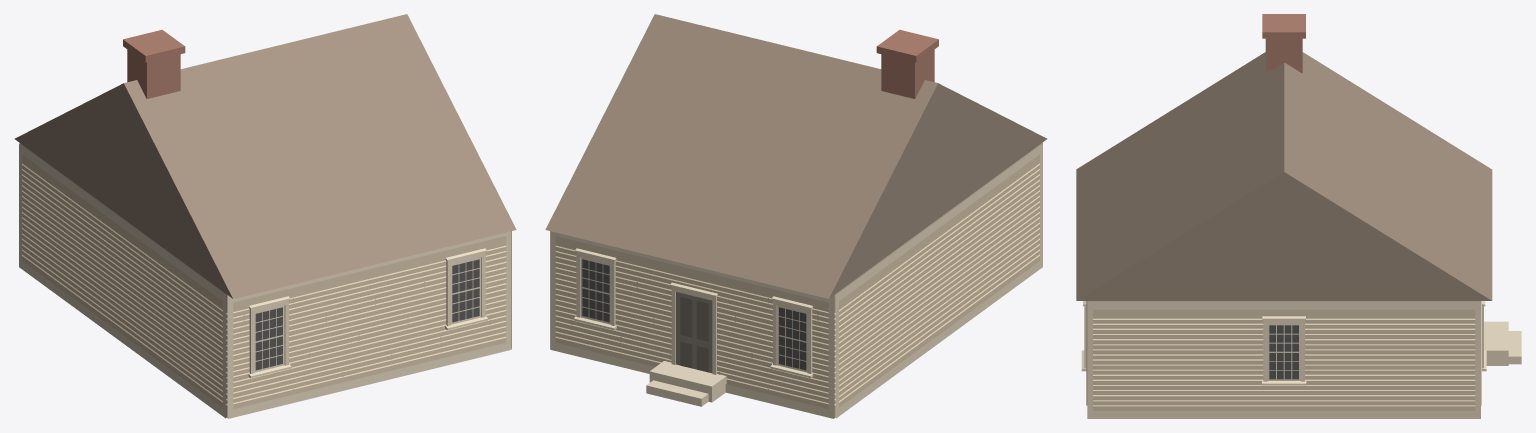
File: recon_1835_north_d5_019__inferred_1835.glb
3 views of the same model, side by side, from view 1: azimuth 30°, elevation 25°; view 2: azimuth 150°, elevation 25°; view 3: azimuth 270°, elevation 25° (orthographic). The views are drawn at different scales.
Visible parts, largest first — view 1: recon_1835_north_d5_019__inferred_1835; view 2: recon_1835_north_d5_019__inferred_1835; view 3: recon_1835_north_d5_019__inferred_1835.
Boxes of the visible parts, x1=… form: recon_1835_north_d5_019__inferred_1835: x1=14, y1=14, x2=516, y2=418; recon_1835_north_d5_019__inferred_1835: x1=545, y1=14, x2=1047, y2=418; recon_1835_north_d5_019__inferred_1835: x1=1076, y1=14, x2=1521, y2=418.
Bounding box in the file's own units: 7.19 × 6.93 × 10.07.
